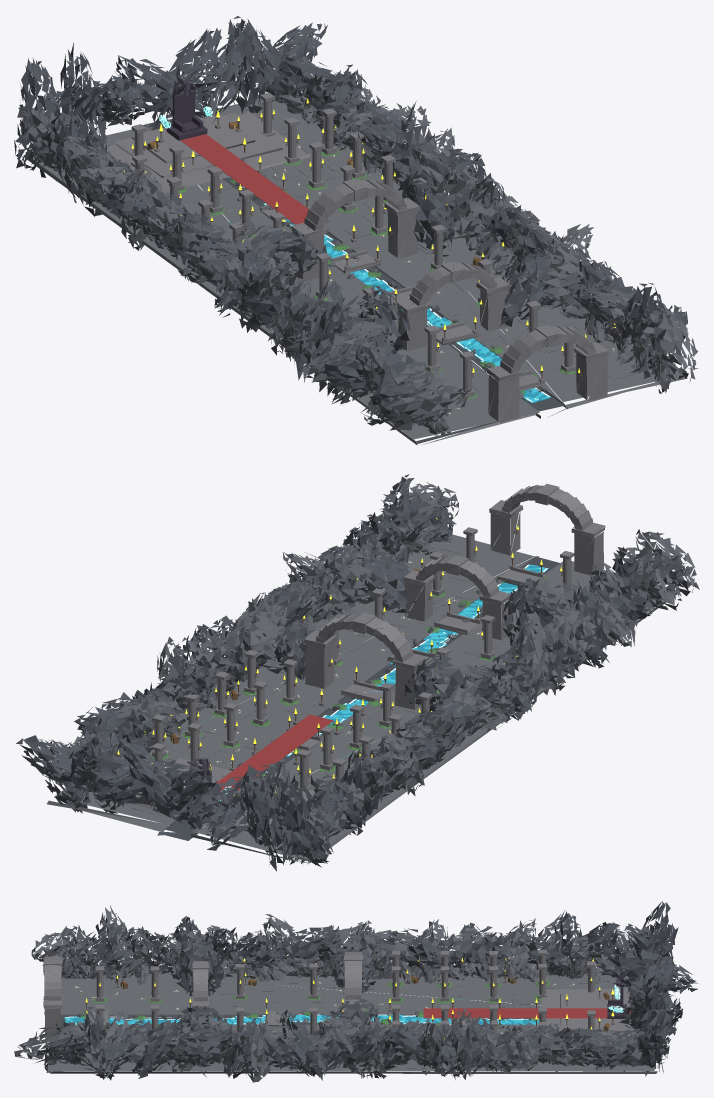
The model's file is mazmorra1.glb.
3 views of the same model, one above another, from view 1: azimuth 30°, elevation 25°; view 2: azimuth 150°, elevation 25°; view 3: azimuth 270°, elevation 25° (orthographic). The views are drawn at different scales.
Visible parts, largest first — view 1: Grupo_1_60piezas, Grupo_3_210piezas, Grupo_8_179piezas, Grupo_0_128piezas, Alfombra_Trono_Real, Grupo_17_10piezas, Grupo_7_46piezas, Grupo_5_24piezas, Grupo_4_24piezas, Grupo_12_220piezas; view 2: Grupo_1_60piezas, Grupo_3_210piezas, Grupo_0_128piezas, Grupo_8_179piezas, Alfombra_Trono_Real, Grupo_7_46piezas, Grupo_5_24piezas, Grupo_4_24piezas, Grupo_12_220piezas; view 3: Grupo_1_60piezas, Grupo_3_210piezas, Grupo_0_128piezas, Grupo_8_179piezas, Alfombra_Trono_Real, Grupo_5_24piezas, Grupo_7_46piezas, Grupo_4_24piezas, Grupo_17_10piezas, Grupo_12_220piezas.
Part boxes in pixels (x1=…): Grupo_1_60piezas: x1=14, y1=16, x2=688, y2=425; Grupo_3_210piezas: x1=17, y1=47, x2=698, y2=435; Grupo_8_179piezas: x1=103, y1=92, x2=608, y2=422; Grupo_0_128piezas: x1=27, y1=97, x2=687, y2=445; Alfombra_Trono_Real: x1=165, y1=128, x2=310, y2=224; Grupo_17_10piezas: x1=166, y1=74, x2=207, y2=140; Grupo_7_46piezas: x1=133, y1=150, x2=576, y2=399; Grupo_5_24piezas: x1=229, y1=203, x2=549, y2=402; Grupo_4_24piezas: x1=228, y1=177, x2=551, y2=403; Grupo_12_220piezas: x1=124, y1=98, x2=643, y2=372; Grupo_1_60piezas: x1=16, y1=474, x2=689, y2=871; Grupo_3_210piezas: x1=49, y1=482, x2=699, y2=864; Grupo_0_128piezas: x1=47, y1=534, x2=680, y2=863; Grupo_8_179piezas: x1=128, y1=484, x2=605, y2=831; Alfombra_Trono_Real: x1=202, y1=714, x2=333, y2=810; Grupo_7_46piezas: x1=150, y1=569, x2=545, y2=790; Grupo_5_24piezas: x1=204, y1=564, x2=548, y2=758; Grupo_4_24piezas: x1=200, y1=565, x2=547, y2=765; Grupo_12_220piezas: x1=92, y1=517, x2=562, y2=795; Grupo_1_60piezas: x1=39, y1=901, x2=698, y2=1080; Grupo_3_210piezas: x1=14, y1=905, x2=671, y2=1082; Grupo_0_128piezas: x1=44, y1=968, x2=663, y2=1073; Grupo_8_179piezas: x1=43, y1=949, x2=634, y2=1046; Alfombra_Trono_Real: x1=423, y1=1008, x2=630, y2=1018; Grupo_5_24piezas: x1=64, y1=999, x2=539, y2=1024; Grupo_7_46piezas: x1=79, y1=981, x2=549, y2=1039; Grupo_4_24piezas: x1=65, y1=998, x2=539, y2=1024; Grupo_17_10piezas: x1=607, y1=970, x2=631, y2=1018; Grupo_12_220piezas: x1=85, y1=958, x2=614, y2=1039.
Size of the model in its own units: 1.26 by 0.4116 by 2.82.
